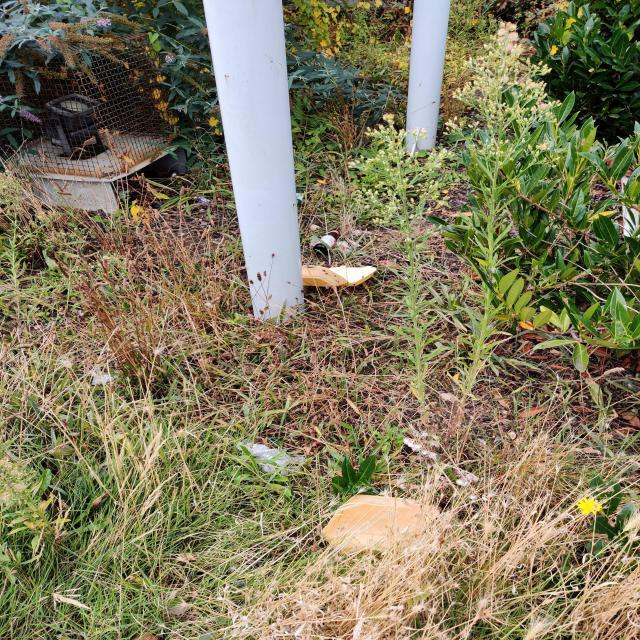litter: (301, 262, 378, 286), (311, 229, 342, 255)
